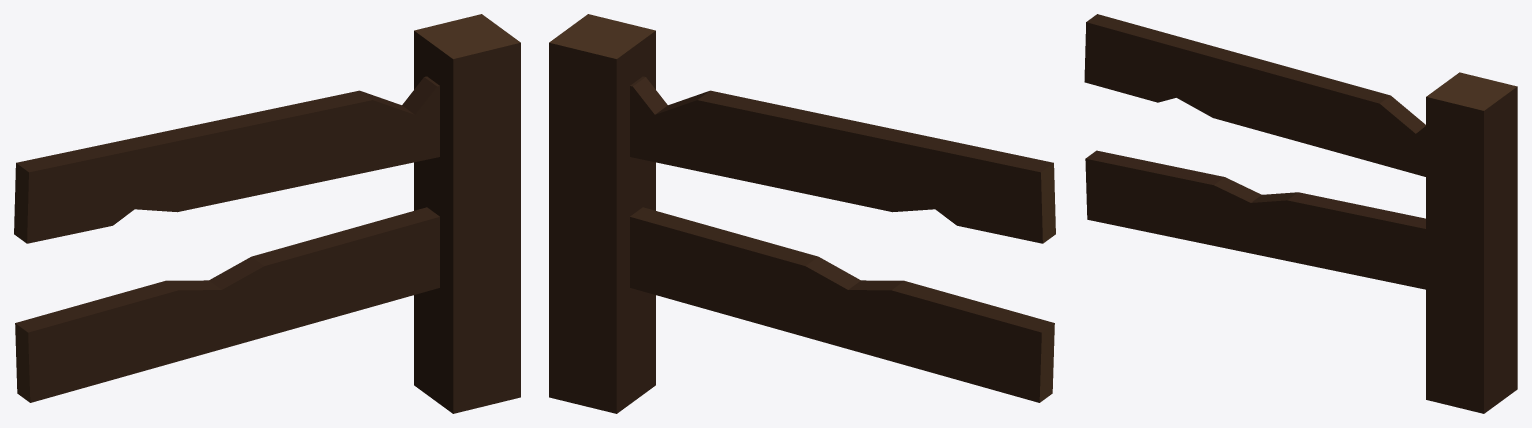
File: Cave_Lair_Wooden_Timber_Fence_Broken_Small_03.fbx
3 renders of one model, left to right at view 1: azimuth 30°, elevation 25°; view 2: azimuth 150°, elevation 25°; view 3: azimuth 330°, elevation 25°, orthographic. The views are drawn at different scales.
Visible parts, largest first — view 1: Cave_Lair_Wooden_Timber_Fence_Broken_Small_03; view 2: Cave_Lair_Wooden_Timber_Fence_Broken_Small_03; view 3: Cave_Lair_Wooden_Timber_Fence_Broken_Small_03.
Boxes of the visible parts, x1,y1,x2,y2 form: Cave_Lair_Wooden_Timber_Fence_Broken_Small_03: (14, 14, 520, 413); Cave_Lair_Wooden_Timber_Fence_Broken_Small_03: (549, 14, 1055, 413); Cave_Lair_Wooden_Timber_Fence_Broken_Small_03: (1084, 14, 1517, 413).
Size of the model in its own units: 1.6 by 1.12 by 0.225.
